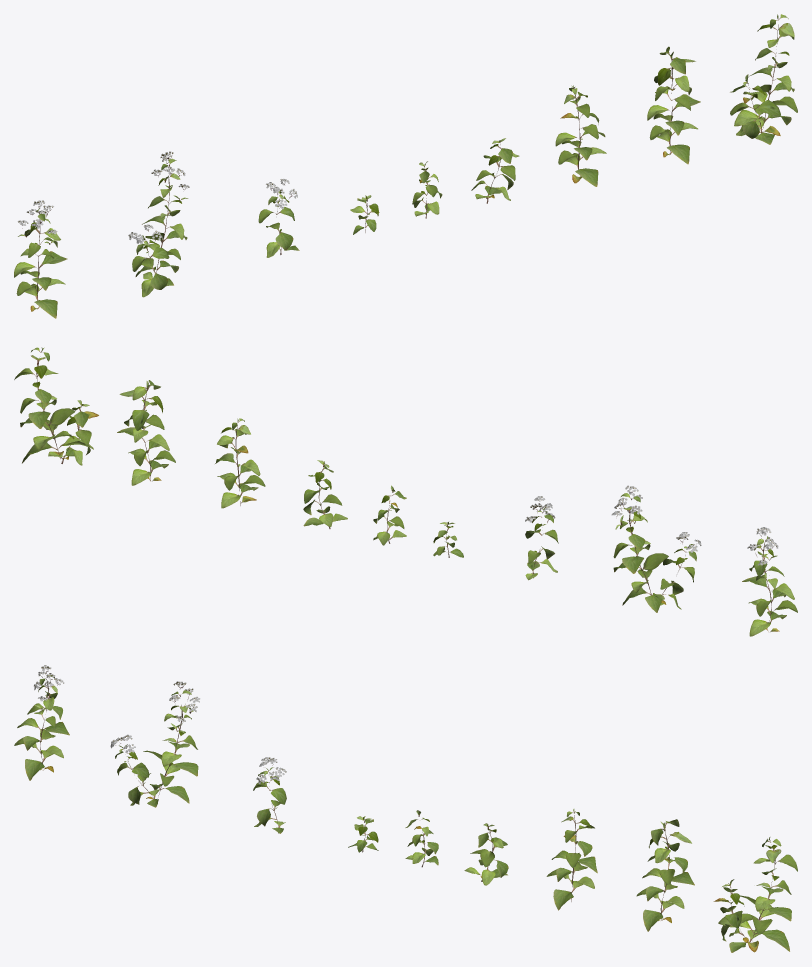
Rendered from shrub_01_1k.gltf.
The picture shows the model from 3 angles, top to bottom: view 1: azimuth 30°, elevation 25°; view 2: azimuth 150°, elevation 25°; view 3: azimuth 330°, elevation 25°; orthographic projection. The views are drawn at different scales.
Visible parts, largest first — view 1: shrub_01_a; view 2: shrub_01_a; view 3: shrub_01_a.
Boxes of the visible parts, box(x1,y1,x2,y2) form: shrub_01_a: box(14, 14, 797, 318); shrub_01_a: box(14, 347, 797, 636); shrub_01_a: box(14, 665, 797, 952).
Bounding box in the file's own units: 2.59 × 0.3954 × 0.2187.
1 material, 1 textured.
